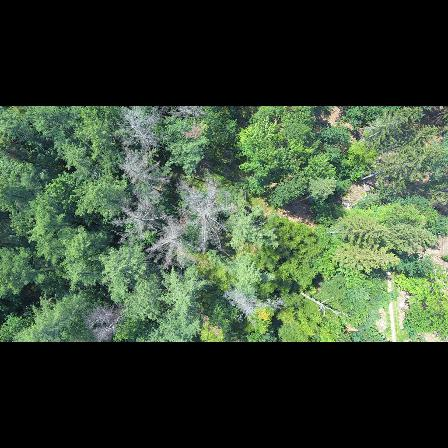Dead: (181, 186, 233, 245), (219, 287, 284, 323), (120, 107, 159, 153), (119, 157, 167, 192), (148, 226, 190, 265), (119, 206, 167, 238), (83, 308, 127, 341)
